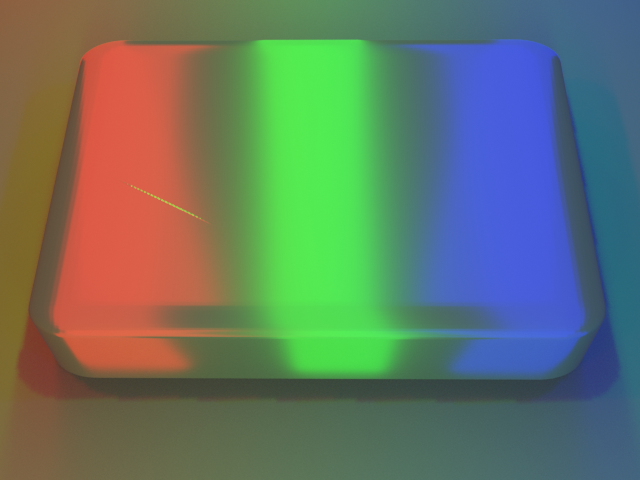scratch: (1, 97, 316, 303)
